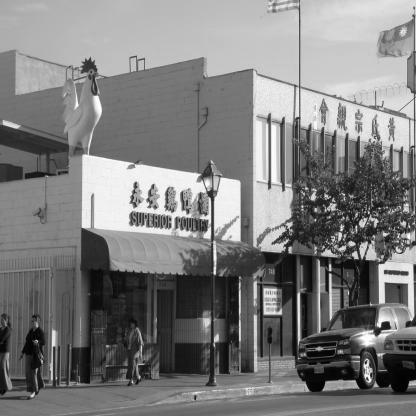car: (290, 278, 408, 393)
